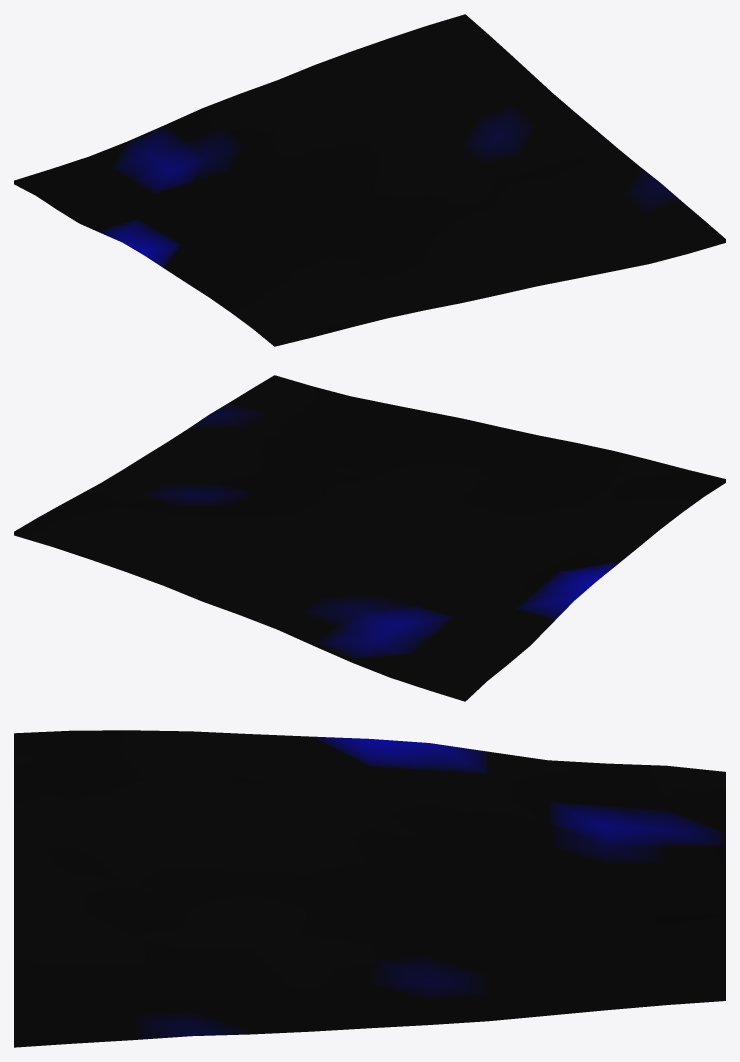
The model's file is coast_12_1.glb.
3 renders of one model, top to bottom at view 1: azimuth 30°, elevation 25°; view 2: azimuth 150°, elevation 25°; view 3: azimuth 270°, elevation 25°, orthographic. The views are drawn at different scales.
Visible parts, largest first — view 1: terrain; view 2: terrain; view 3: terrain.
Part boxes in pixels (x1,y1,x2,y2): terrain: [14, 14, 725, 346]; terrain: [14, 375, 725, 701]; terrain: [14, 730, 725, 1047].
Bounding box in the file's own units: 192 × 24.37 × 192.
